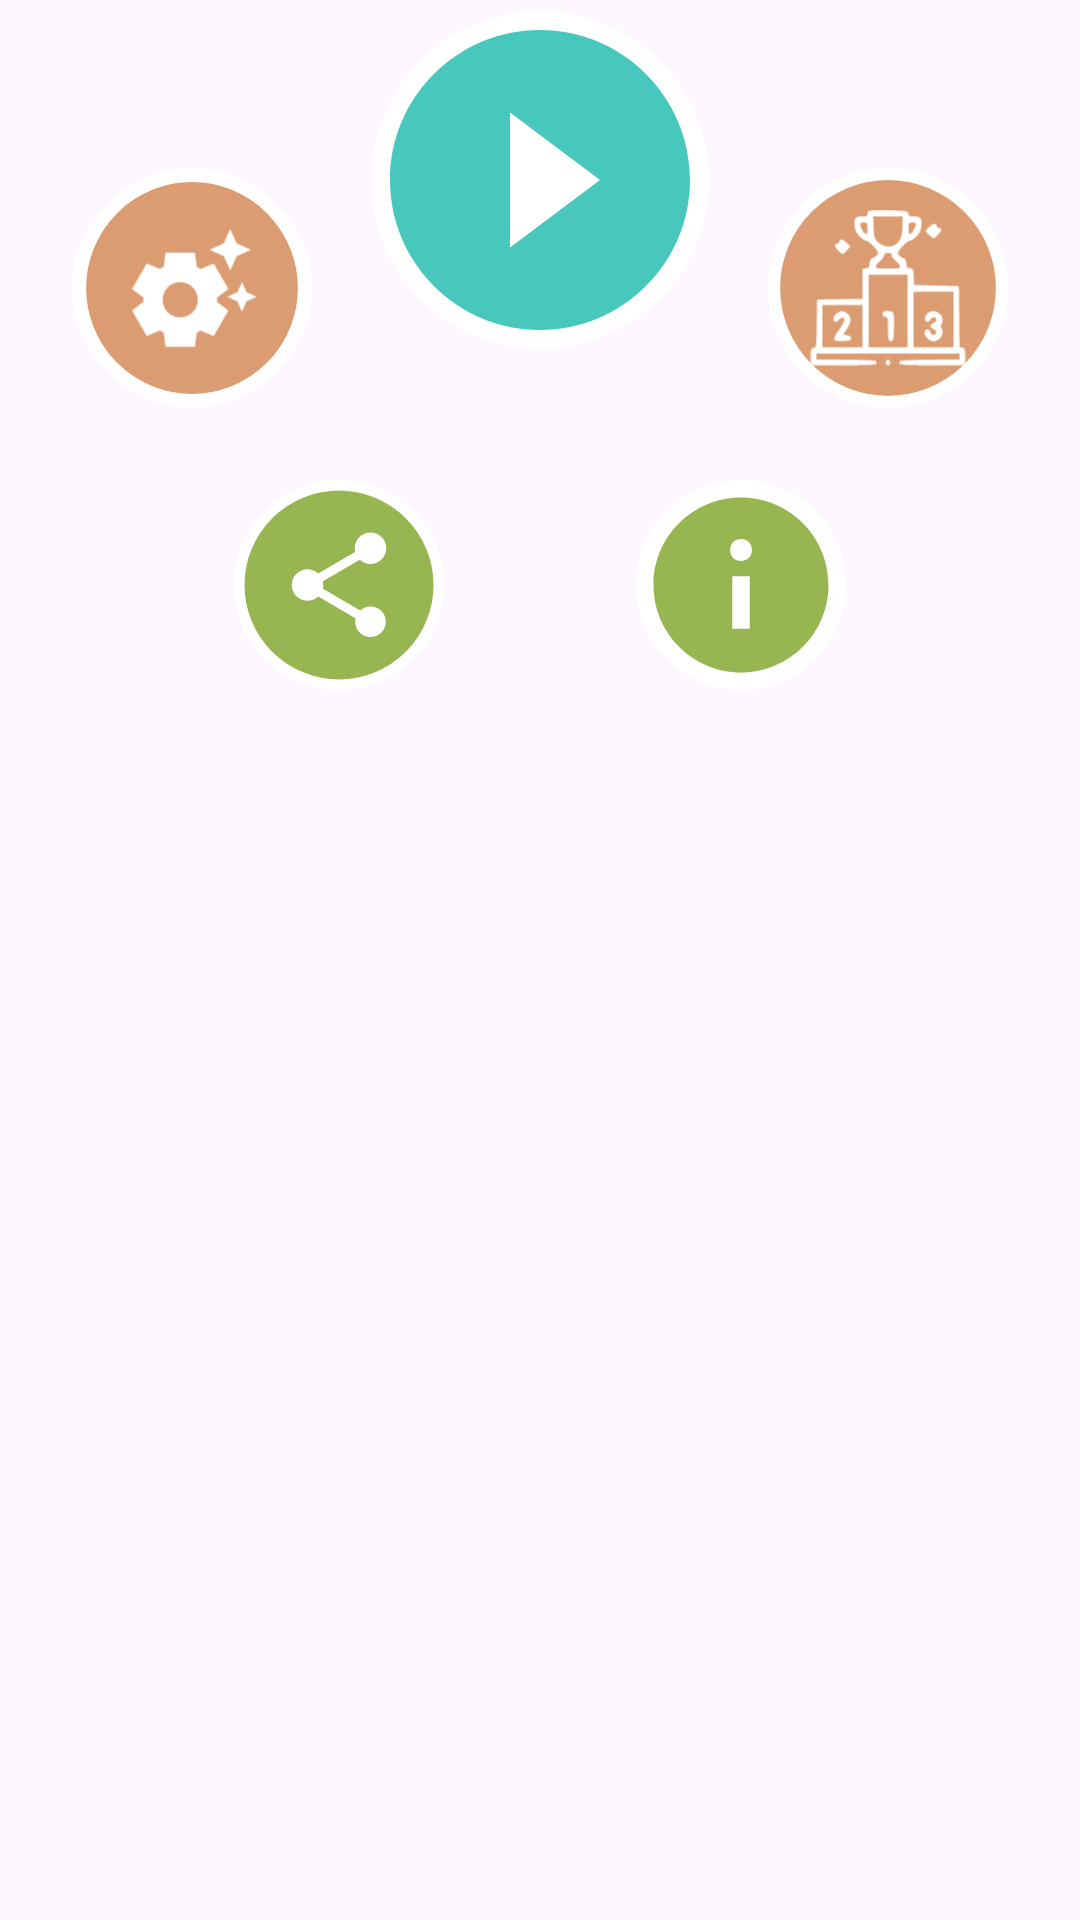

Named icons in this screenshot (1080 × 1920) and their bounding boxes, Rect(x1, y1, x2, y2):
info: Rect(653, 497, 829, 673)
play circle: Rect(390, 30, 690, 330)
ranking: Rect(780, 180, 996, 396)
settings suggest: Rect(86, 182, 298, 394)
share: Rect(244, 490, 434, 680)
